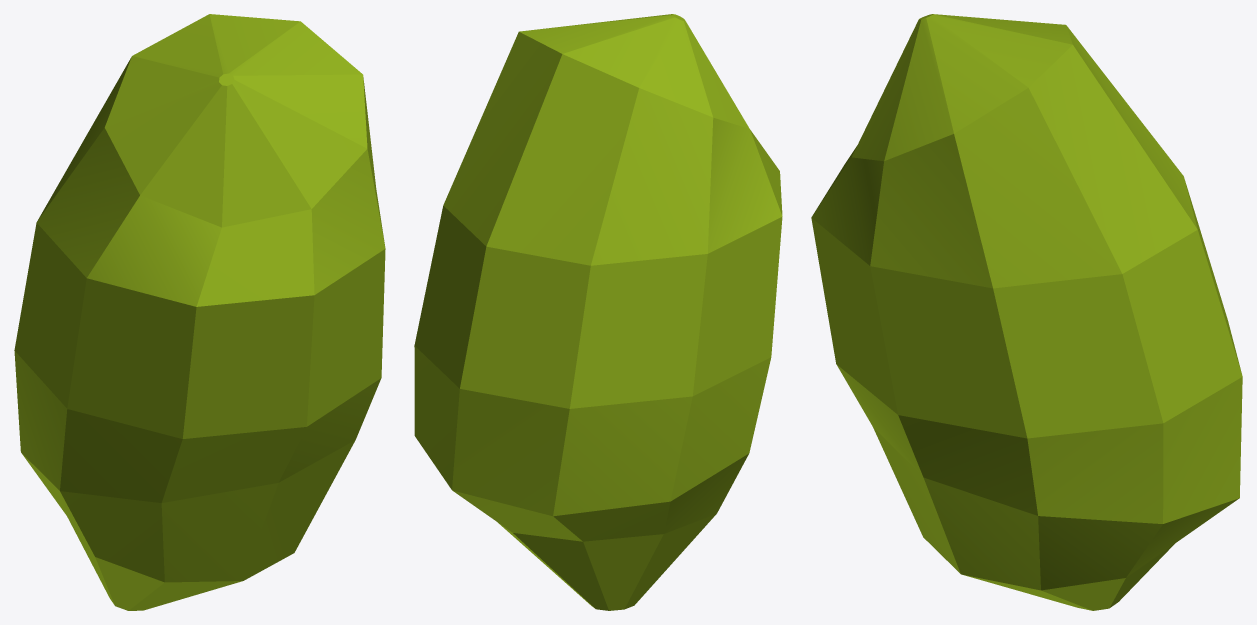
The model's file is Vegetation_Modular_Tree_Foliage_Clump_Large_03.fbx.
3 views of the same model, side by side, from view 1: azimuth 30°, elevation 25°; view 2: azimuth 150°, elevation 25°; view 3: azimuth 270°, elevation 25° (orthographic). The views are drawn at different scales.
Parts seen in each view (by area): view 1: Vegetation_Modular_Tree_Foliage_Clump_Large_03; view 2: Vegetation_Modular_Tree_Foliage_Clump_Large_03; view 3: Vegetation_Modular_Tree_Foliage_Clump_Large_03.
Boxes of the visible parts, x1,y1,x2,y2 form: Vegetation_Modular_Tree_Foliage_Clump_Large_03: (14, 14, 385, 610); Vegetation_Modular_Tree_Foliage_Clump_Large_03: (414, 14, 782, 610); Vegetation_Modular_Tree_Foliage_Clump_Large_03: (811, 14, 1242, 610).
Size of the model in its own units: 48.82 by 83.72 by 55.1.
